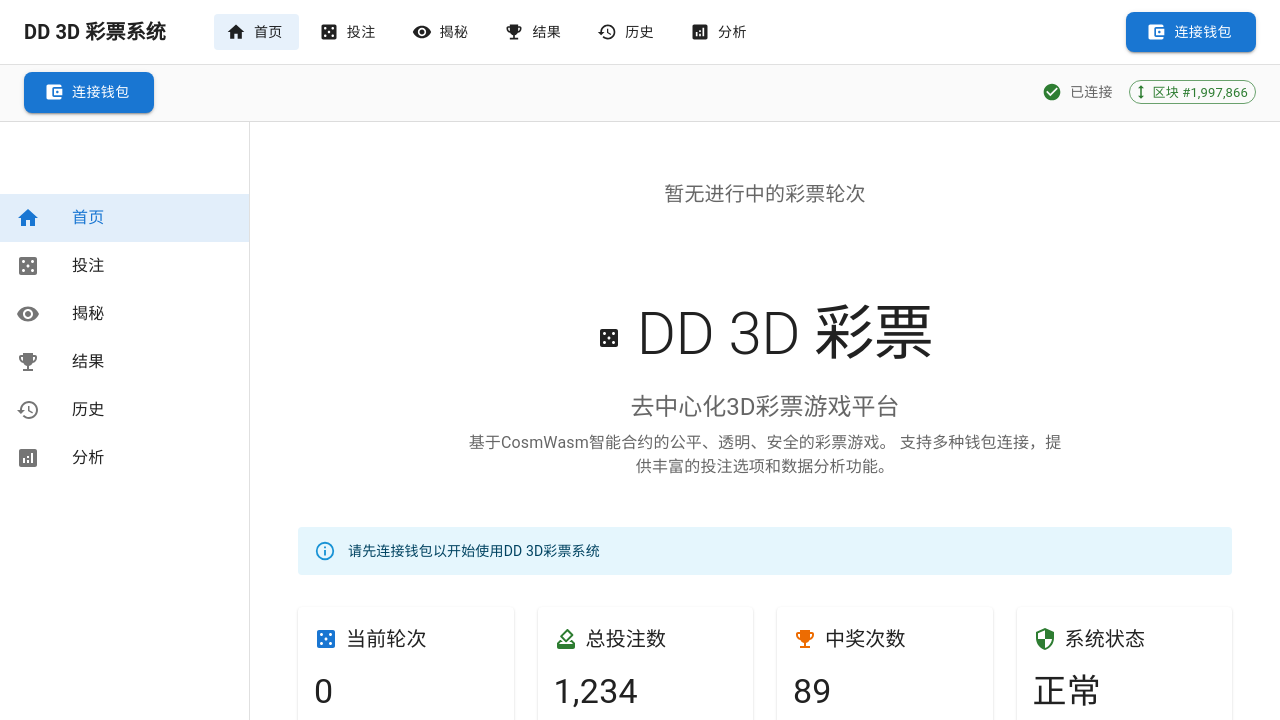
Test: Navigation › navigates to result page
This screenshot has width=1280, height=720.
Click the link "结果" in the row of "DD 3D 彩票系统".
click(533, 32)  # box [504,22,561,42]
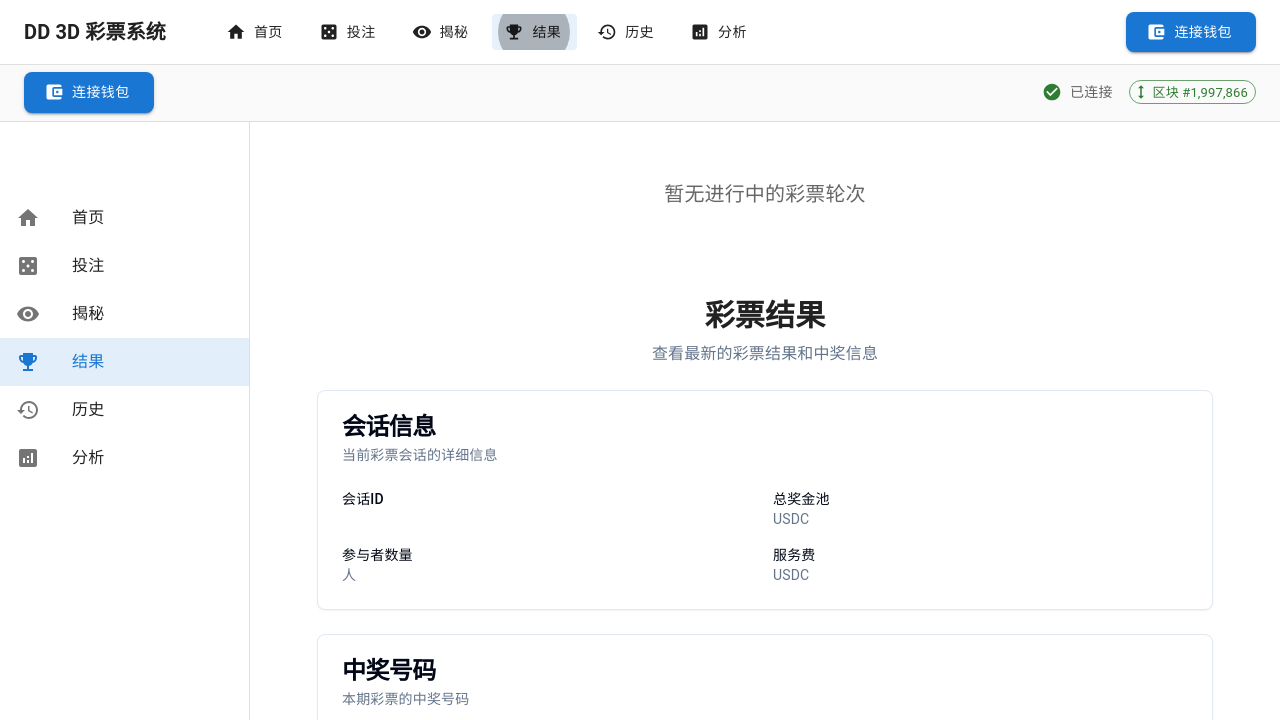
Expected: the heading "彩票结果" is shown, [705,298,825,332]
